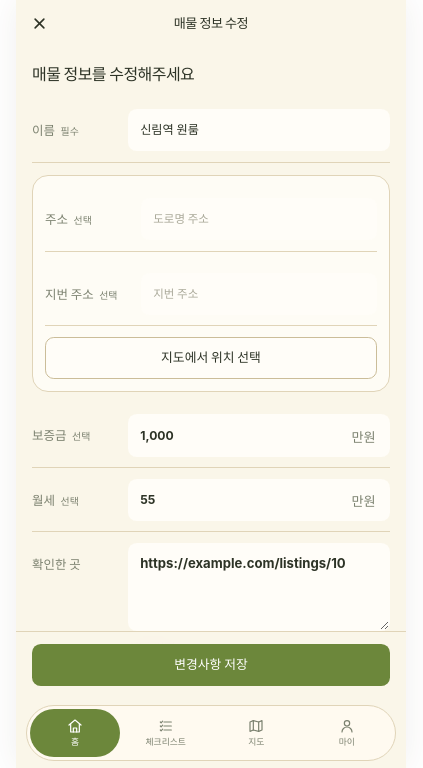
FE-2 등록·수정·메모 › 수정은 변경이 없어도 전체 필드를 보내고 상세 화면으로 돌아간다
Click the button "변경사항 저장".
click(211, 665)  # box [32,644,390,686]
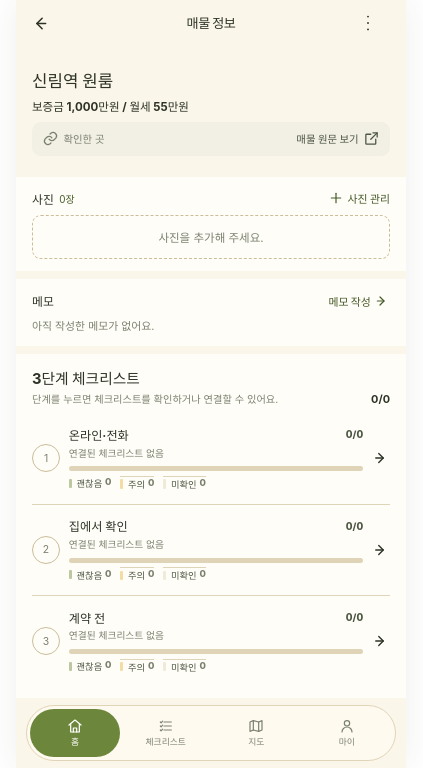
Expected: the heading "신림역 원룸" is shown, [32,71,113,91]
